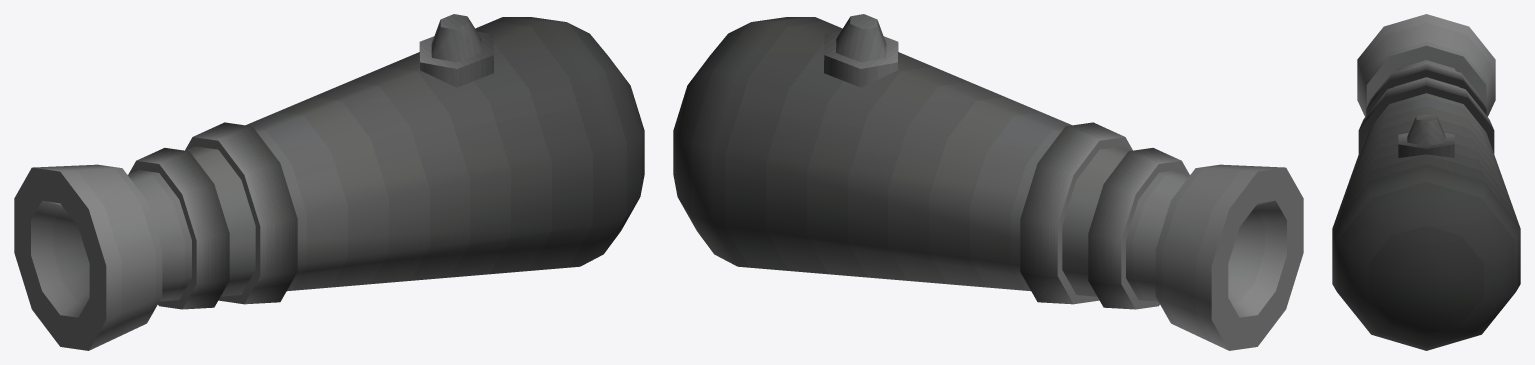
File: Cannon.obj
3 renders of one model, left to right at view 1: azimuth 30°, elevation 25°; view 2: azimuth 150°, elevation 25°; view 3: azimuth 270°, elevation 25°, orthographic. The views are drawn at different scales.
Parts seen in each view (by area): view 1: Handle1; view 2: Handle1; view 3: Handle1.
Part boxes in pixels (left/top/right/bottom): Handle1: left=14, top=14, right=644, bottom=350; Handle1: left=673, top=14, right=1303, bottom=350; Handle1: left=1332, top=14, right=1520, bottom=350.
Bounding box in the file's own units: 6.87 × 3.07 × 2.65.
Materials: 1 (1 with a texture image).
